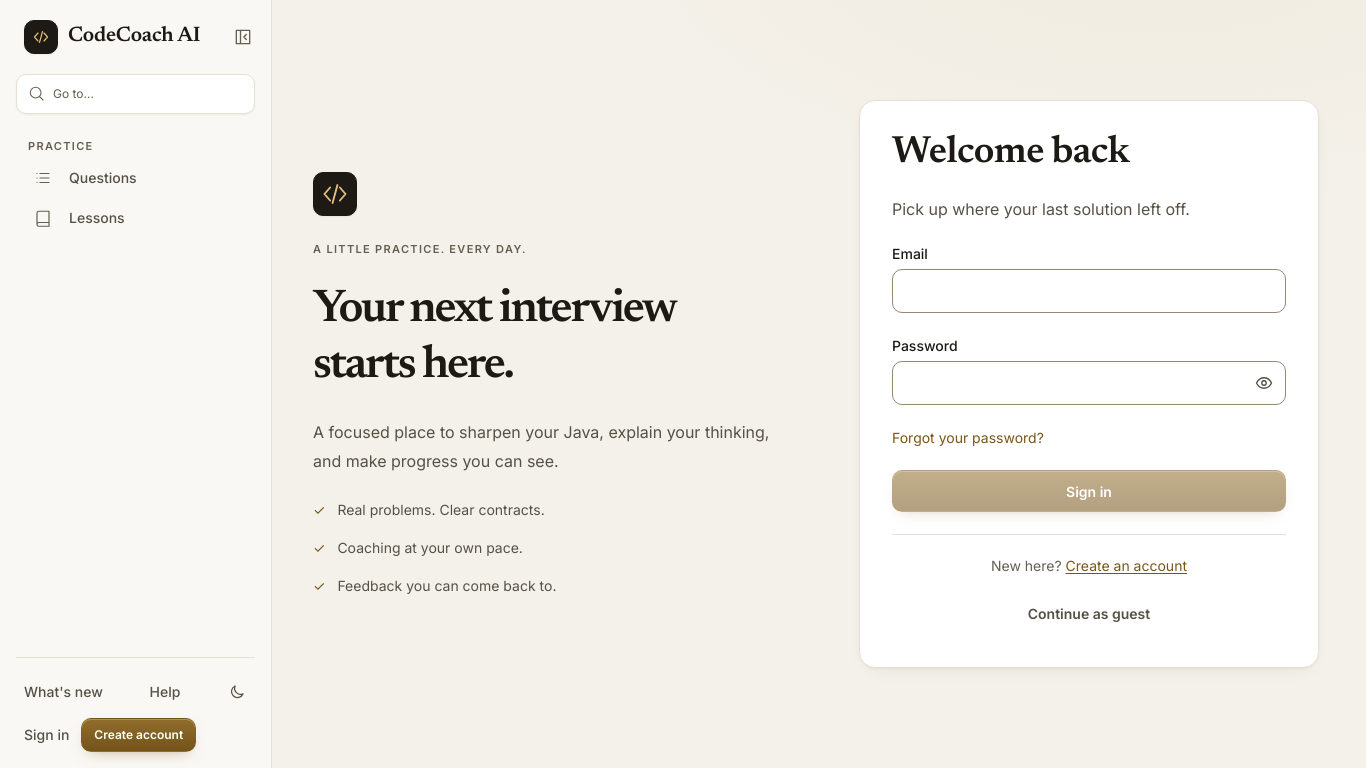
reports a failed guest session instead of leaving an unhandled rejection
Click the button "Continue as guest" at (1089, 614), box [892,593,1286,635]
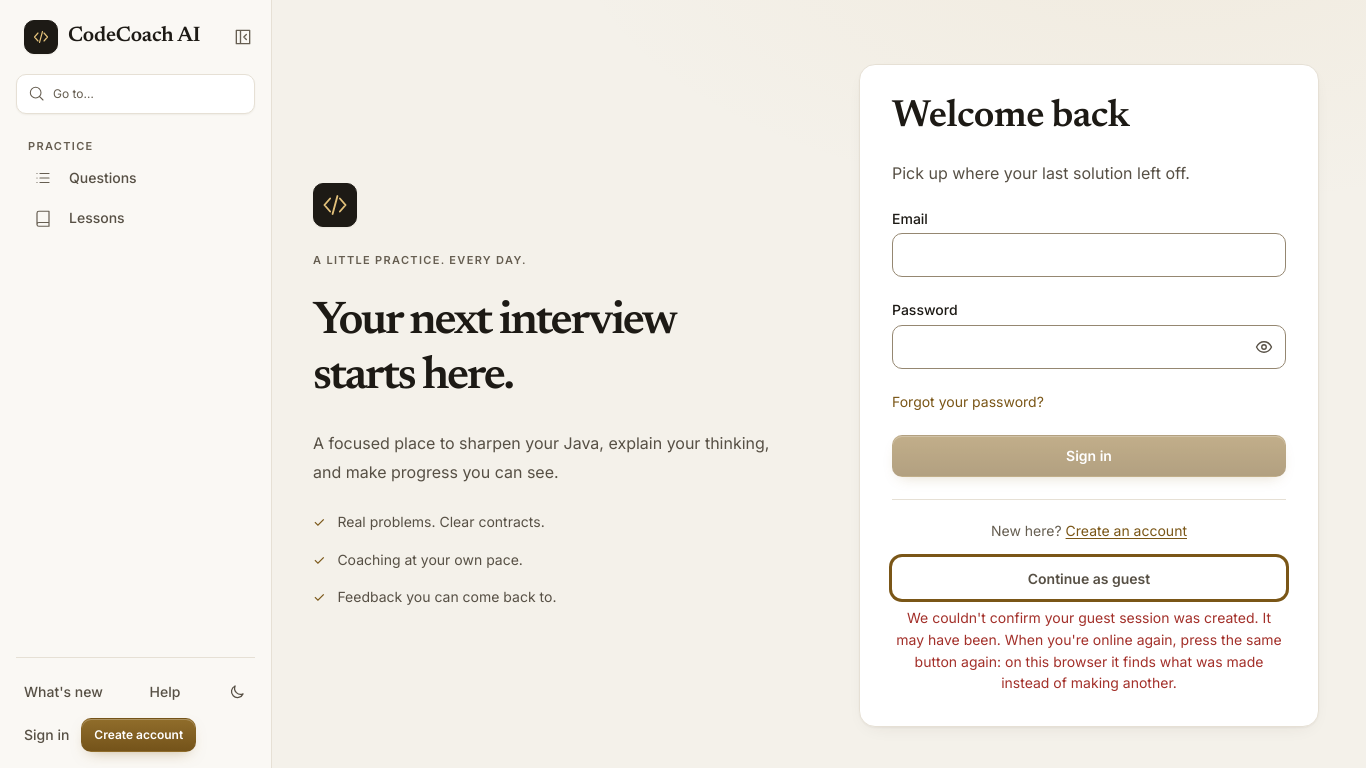
Expected: the button "Continue as guest" is enabled, [892,557,1286,599]
Now the message shows "We couldn't confirm your guest session was created. It may have been", box [896,609,1282,691]
